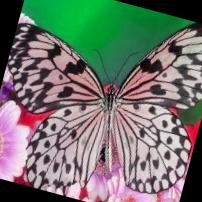butterfly: (7, 22, 202, 194)
